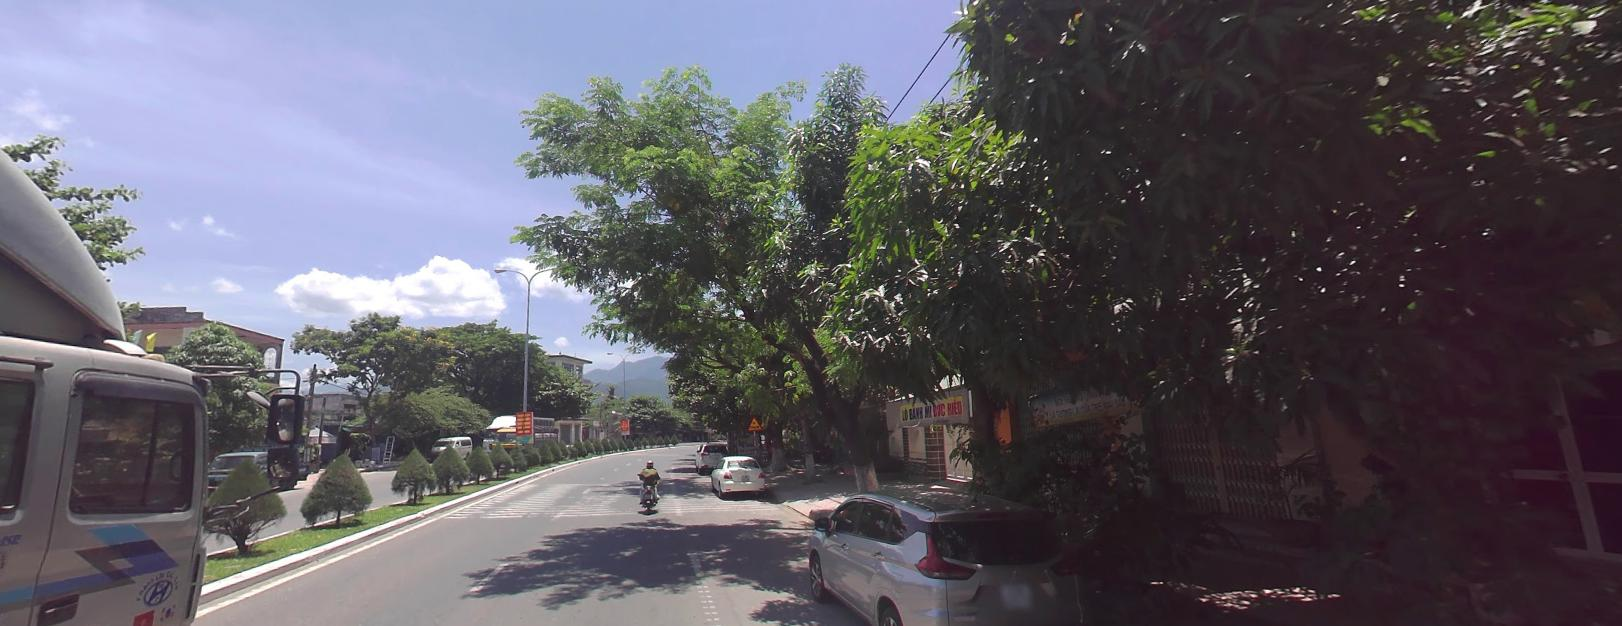Nguy hiem: (744, 414, 765, 433)
